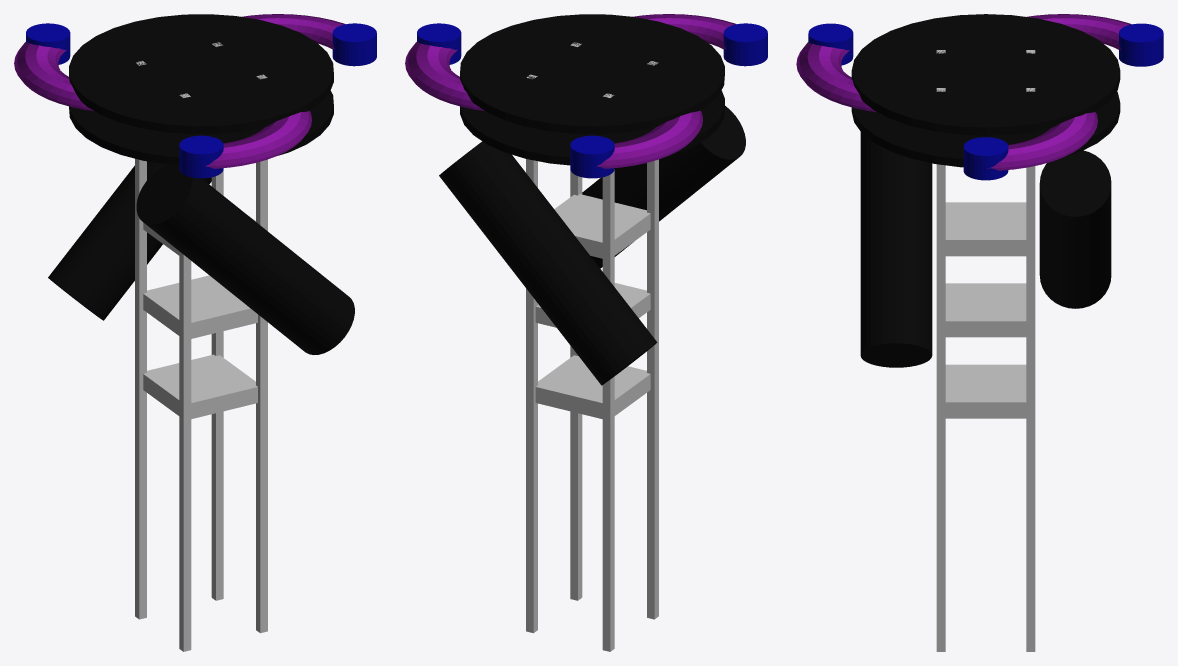
Rendered from carriage.obj.
3 renders of one model, left to right at view 1: azimuth 30°, elevation 25°; view 2: azimuth 150°, elevation 25°; view 3: azimuth 270°, elevation 25°, orthographic.
Parts seen in each view (by area): view 1: Cylinder.003, Cylinder.001, Cylinder.002, Cube.004, Cube.003, Cylinder.004, Cube.001, Cube.006, Cube.007, Cube.002, Torus.001, Torus (+4 smaller); view 2: Cylinder.003, Cylinder.002, Cylinder.001, Cube.004, Cube.003, Cylinder.004, Cube.002, Cube.006, Cube.005, Cube.001, Torus, Torus.002 (+5 smaller); view 3: Cylinder.003, Cylinder.001, Cylinder.002, Cylinder.004, Cube.001, Cube.002, Cube.007, Cube.006, Cube.005, Torus.002, Torus.001, Cylinder.006 (+3 smaller).
Part boxes in pixels (x1,y1,x2,y2): Cylinder.003: (69,14,333,134); Cylinder.001: (136,164,354,354); Cylinder.002: (48,161,211,320); Cube.004: (179,93,191,651); Cube.003: (135,61,146,619); Cylinder.004: (69,90,333,165); Cube.001: (256,74,267,633); Cube.006: (143,354,257,418); Cube.007: (143,275,257,338); Cube.002: (211,42,223,600); Torus.001: (205,110,311,168); Torus: (14,42,93,110); Cylinder.003: (460,14,724,134); Cylinder.002: (439,141,657,385); Cylinder.001: (582,106,745,268); Cube.004: (647,61,658,619); Cube.003: (602,93,614,651); Cylinder.004: (460,90,724,165); Cube.002: (526,74,537,633); Cube.006: (535,355,650,418); Cube.005: (554,194,650,258); Cube.001: (570,42,582,600); Torus: (596,110,702,168); Torus.002: (405,42,484,110); Cylinder.003: (851,14,1120,135); Cylinder.001: (860,132,932,367); Cylinder.002: (1039,150,1111,308); Cylinder.004: (851,91,1120,167); Cube.001: (936,88,945,651); Cube.002: (1026,88,1035,651); Cube.007: (945,283,1026,337); Cube.006: (945,364,1026,418); Cube.005: (945,202,1026,256); Torus.002: (987,112,1097,170); Torus.001: (796,42,876,111); Cylinder.006: (1119,23,1163,66).
Bounding box in the file's own units: 0.4 × 0.69 × 0.4098.
